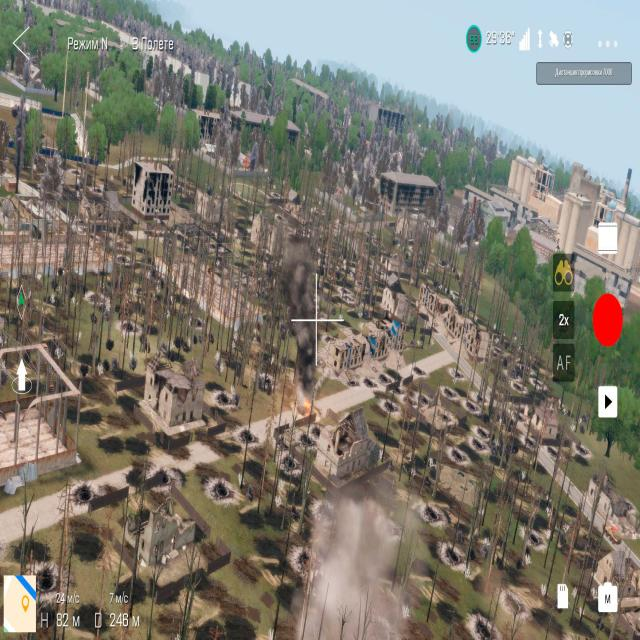fortification: (100, 476, 222, 596), (0, 324, 89, 481), (0, 186, 119, 285), (136, 347, 206, 441), (314, 407, 375, 505), (153, 242, 243, 282), (593, 551, 640, 624), (324, 326, 367, 394), (344, 312, 396, 366), (130, 155, 174, 218), (523, 397, 562, 456), (584, 469, 640, 510), (380, 270, 414, 323), (453, 326, 497, 366), (429, 306, 475, 342), (418, 280, 447, 325)
vehicle: (600, 519, 625, 549), (294, 395, 315, 421)
